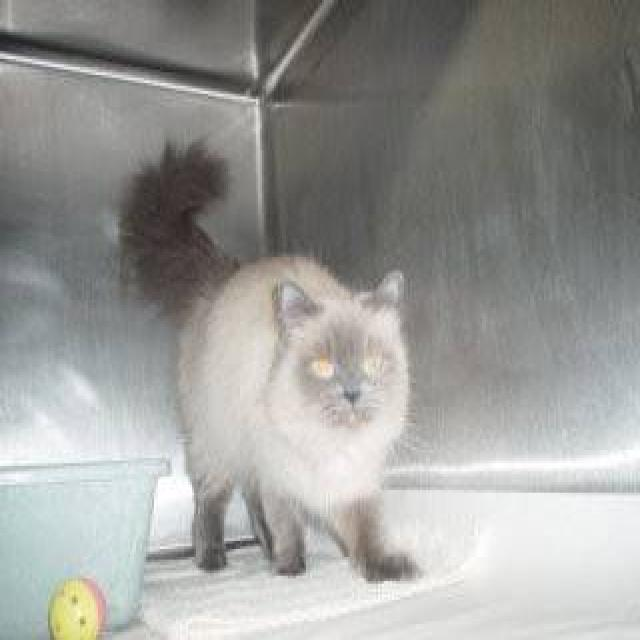cat: (116, 134, 424, 581)
